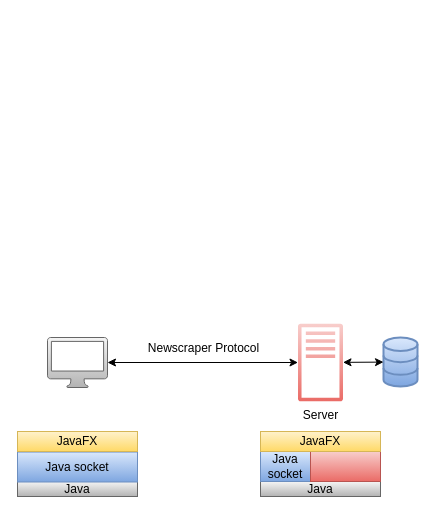
Some shapes in this 444 by 514 pixel diagram are drawn without their labels. Each missing label, with the centre of its shape:
"Client" goes at pixel 77 362.
"MongoDB" goes at pixel 400 361.
"MongoDB Java driver" goes at pixel 345 466.
